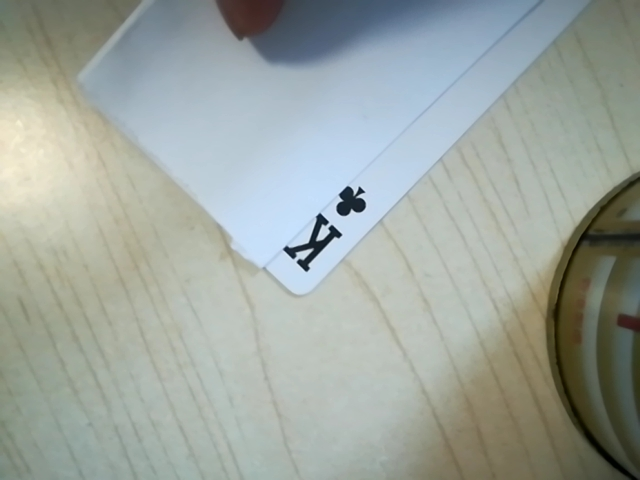mh k: (272, 173, 378, 282)
